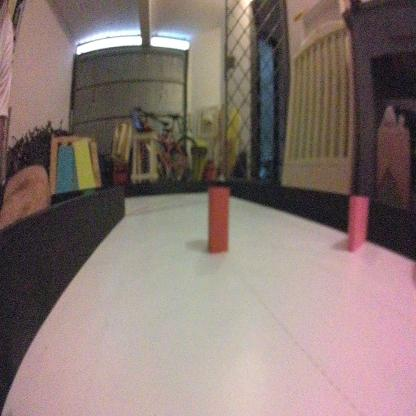magenta: (346, 193, 370, 254)
red: (205, 178, 230, 252)
